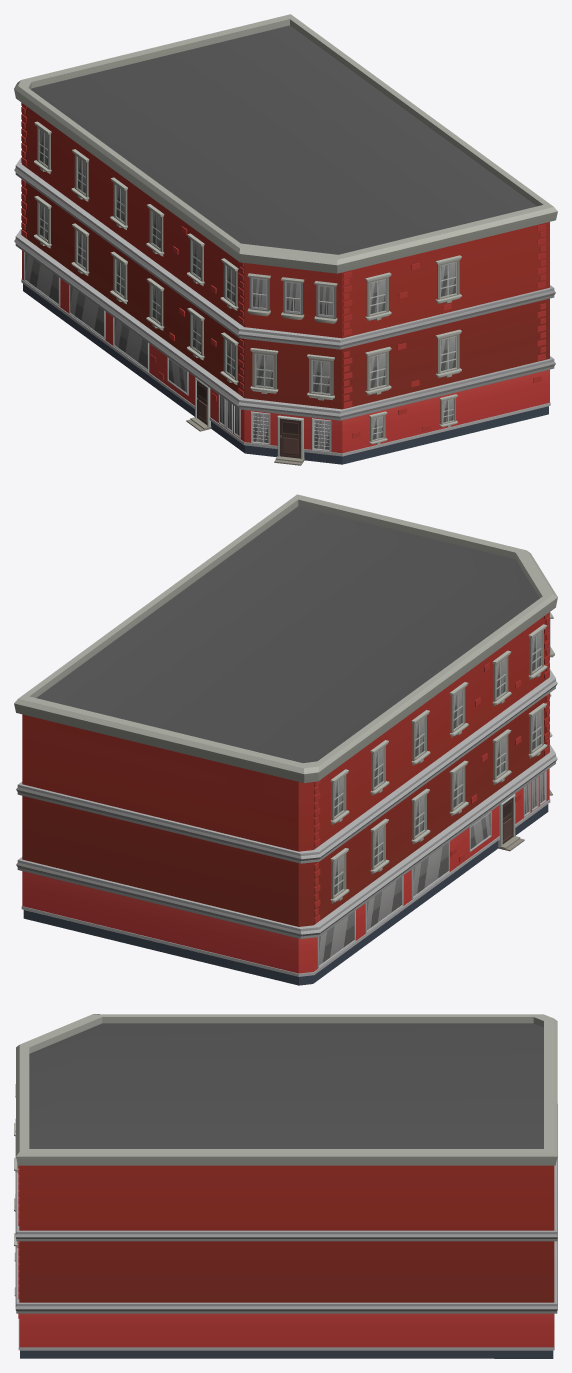
The model's file is Building_25_10_A.fbx.
3 renders of one model, top to bottom at view 1: azimuth 30°, elevation 25°; view 2: azimuth 150°, elevation 25°; view 3: azimuth 270°, elevation 25°, orthographic. The views are drawn at different scales.
Visible parts, largest first — view 1: Building_25_10_A; view 2: Building_25_10_A; view 3: Building_25_10_A.
Part boxes in pixels (x1,y1,x2,y2): Building_25_10_A: (14, 14, 557, 465); Building_25_10_A: (14, 494, 557, 985); Building_25_10_A: (14, 1014, 557, 1358).
Bounding box in the file's own units: 1683 × 1159 × 2729.
